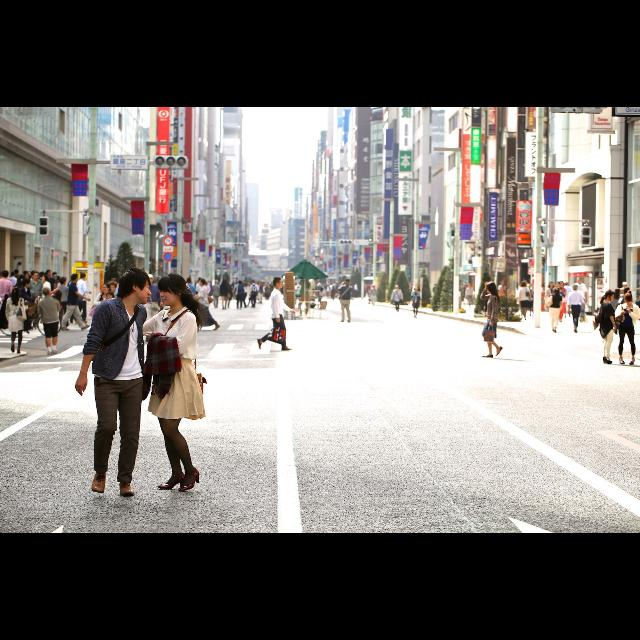head: (121, 268, 153, 306), (158, 274, 186, 308), (272, 278, 284, 290), (604, 290, 616, 302), (486, 283, 496, 295), (102, 283, 111, 295), (12, 287, 22, 297), (146, 274, 154, 286), (624, 293, 632, 305), (42, 288, 52, 296), (23, 280, 31, 288), (2, 271, 10, 279), (71, 274, 79, 282), (61, 278, 68, 286), (33, 273, 39, 281), (42, 274, 48, 282), (199, 279, 205, 287), (81, 274, 87, 280), (186, 278, 192, 284), (304, 278, 310, 284), (414, 286, 420, 292), (521, 282, 527, 288), (556, 283, 562, 289), (558, 281, 564, 287), (554, 288, 560, 294), (577, 278, 583, 284), (573, 285, 579, 291), (500, 282, 506, 286), (550, 282, 554, 288), (616, 289, 620, 295), (215, 280, 219, 284), (223, 280, 227, 284), (239, 281, 243, 285), (248, 282, 252, 286), (251, 281, 255, 285), (296, 282, 300, 286), (346, 280, 350, 284), (372, 285, 376, 289), (395, 286, 399, 290), (468, 284, 472, 288), (333, 286, 335, 290), (566, 282, 568, 286), (356, 283, 358, 285)
person: (117, 272, 209, 492), (74, 265, 154, 499), (256, 276, 298, 352), (478, 281, 504, 359), (592, 288, 618, 366), (60, 273, 92, 333), (187, 278, 221, 332), (36, 286, 62, 356), (139, 274, 165, 342), (4, 286, 28, 356), (88, 282, 116, 338), (49, 276, 77, 328), (15, 278, 41, 332), (566, 284, 590, 334), (73, 272, 93, 326), (544, 288, 564, 334), (28, 272, 44, 328), (571, 277, 589, 323), (0, 270, 14, 326), (338, 278, 354, 324), (40, 274, 54, 322), (297, 276, 313, 318), (609, 288, 623, 334), (182, 277, 198, 317), (517, 281, 533, 321), (552, 281, 566, 325), (544, 281, 558, 321), (561, 281, 575, 319), (556, 280, 568, 324), (220, 278, 232, 312), (411, 286, 423, 320), (391, 285, 405, 313), (236, 280, 248, 312), (210, 279, 222, 309), (292, 280, 304, 310), (248, 280, 260, 308), (498, 280, 508, 310), (465, 282, 475, 310), (245, 282, 255, 308), (369, 284, 378, 308), (331, 286, 337, 302), (353, 282, 359, 298)
